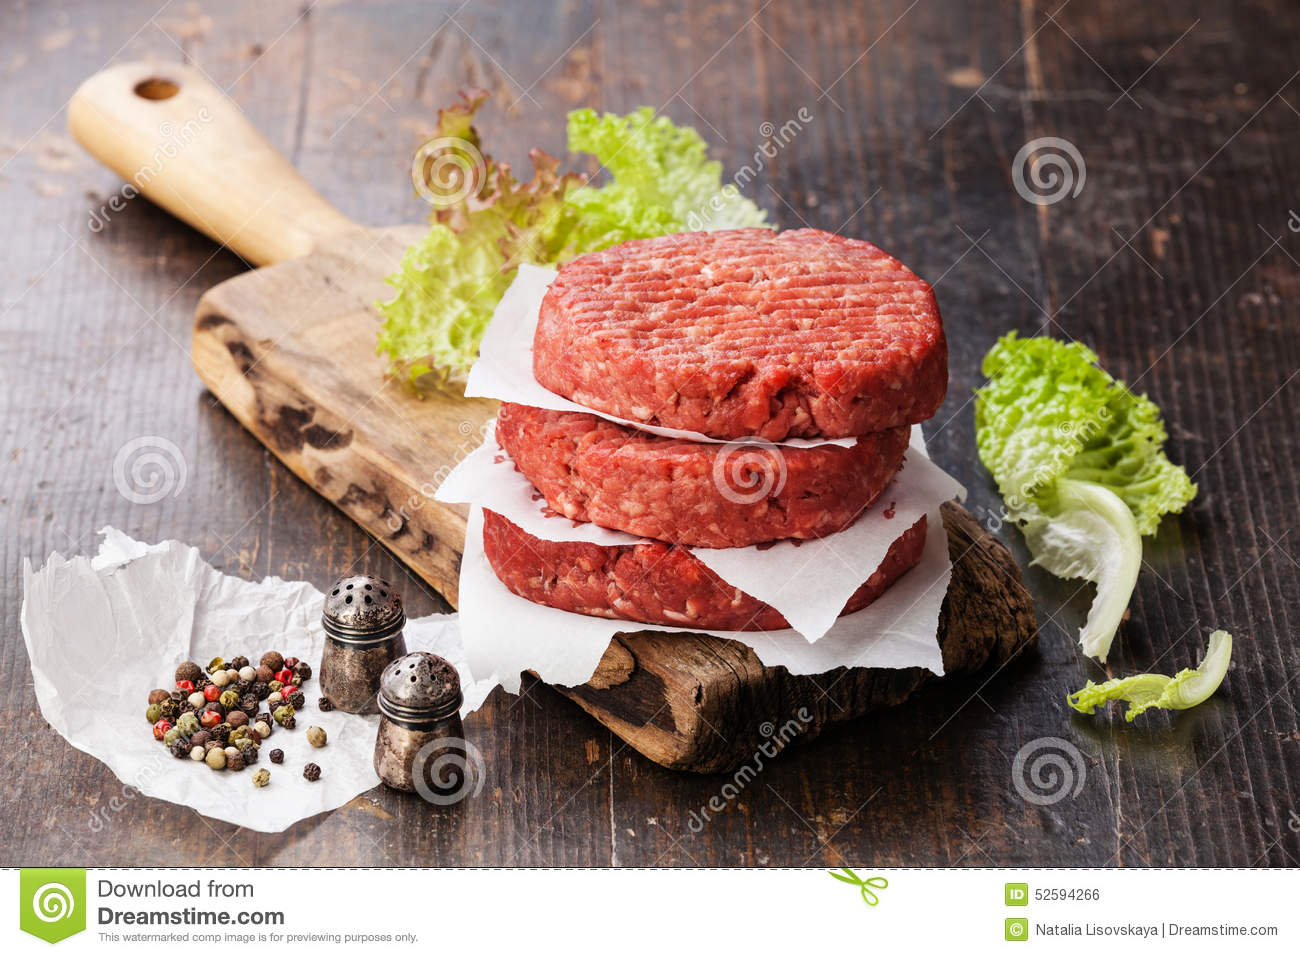ground_beef: (525, 221, 973, 441), (455, 497, 976, 670), (480, 374, 938, 541)
